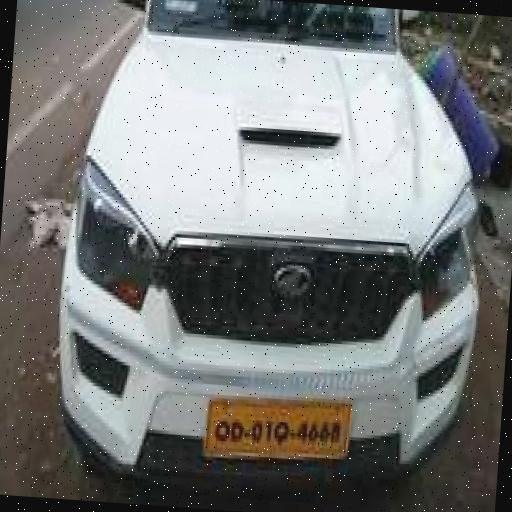license_plate`: (204, 390, 349, 456)
